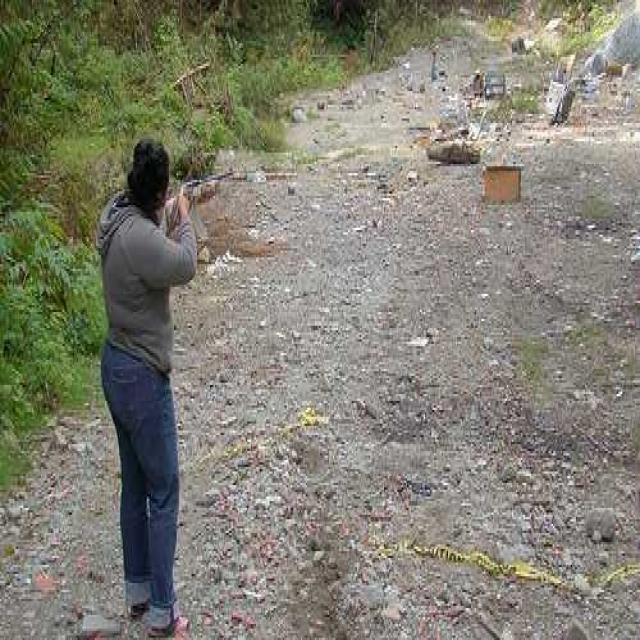weapon: (178, 166, 233, 216)
